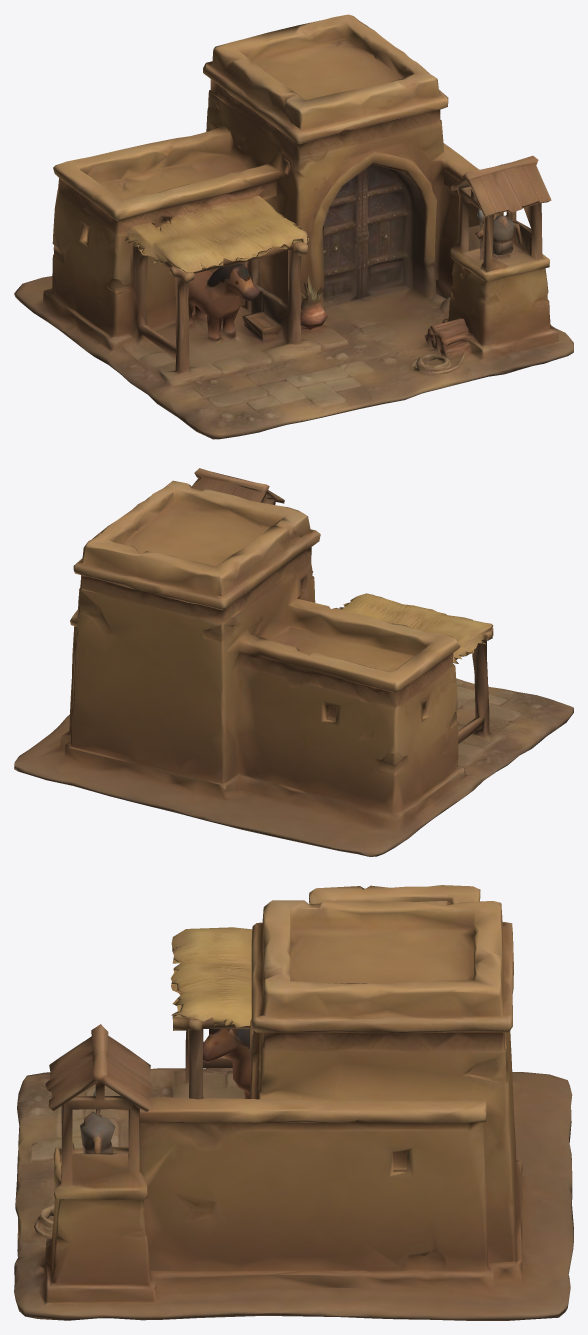
File: emir_palace_courtyard.glb
The picture shows the model from 3 angles, top to bottom: view 1: azimuth 30°, elevation 25°; view 2: azimuth 150°, elevation 25°; view 3: azimuth 270°, elevation 25°; orthographic projection. The views are drawn at different scales.
Visible parts, largest first — view 1: tripo_node_e3e303b7-7753-4330-9bf5-a0fd90d02801; view 2: tripo_node_e3e303b7-7753-4330-9bf5-a0fd90d02801; view 3: tripo_node_e3e303b7-7753-4330-9bf5-a0fd90d02801.
Boxes of the visible parts, x1=… form: tripo_node_e3e303b7-7753-4330-9bf5-a0fd90d02801: x1=14, y1=14, x2=573, y2=439; tripo_node_e3e303b7-7753-4330-9bf5-a0fd90d02801: x1=14, y1=468, x2=573, y2=856; tripo_node_e3e303b7-7753-4330-9bf5-a0fd90d02801: x1=14, y1=885, x2=573, y2=1320.
Size of the model in its own units: 1 by 0.5634 by 0.9484.
1 material, 1 textured.
